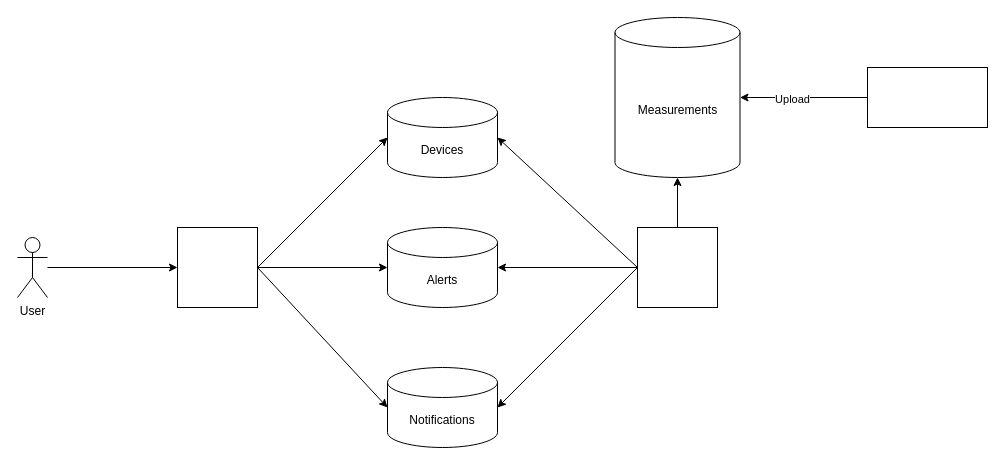
Image size: 1005x465. Some labels were removed from this diagram. Each missing label, with the centre of its shape:
"Aggregators" goes at (x=677, y=267).
"Hydrant" goes at (x=927, y=97).
"Web Interface" goes at (x=217, y=267).
